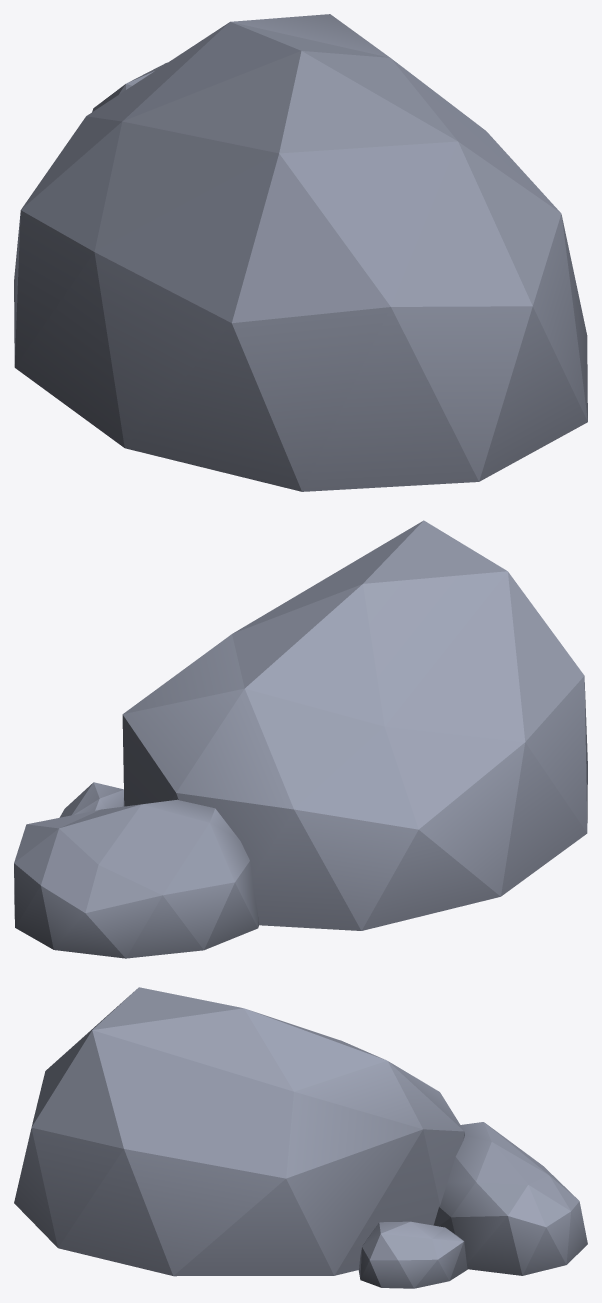
The model's file is rocks.fbx.
3 renders of one model, top to bottom at view 1: azimuth 30°, elevation 25°; view 2: azimuth 150°, elevation 25°; view 3: azimuth 270°, elevation 25°, orthographic. The views are drawn at different scales.
Visible parts, largest first — view 1: rocks; view 2: rocks; view 3: rocks.
Boxes of the visible parts, box(x1,y1,x2,y2) form: rocks: box(14, 14, 587, 491); rocks: box(14, 520, 587, 958); rocks: box(14, 987, 587, 1288).
Bounding box in the file's own units: 1.62 × 0.9385 × 2.49.
